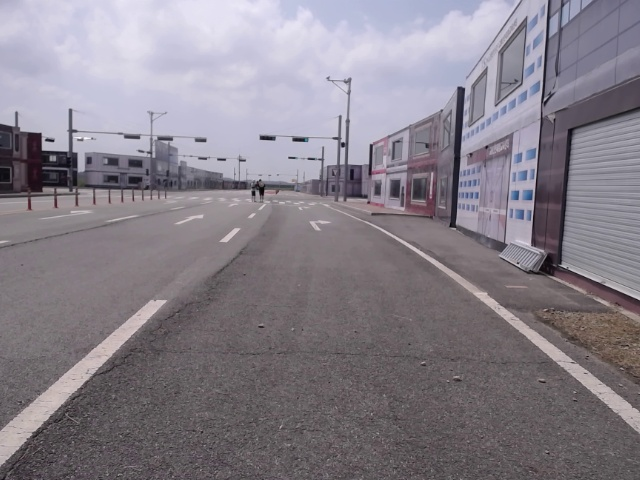straight_green_4: (290, 135, 310, 143)
